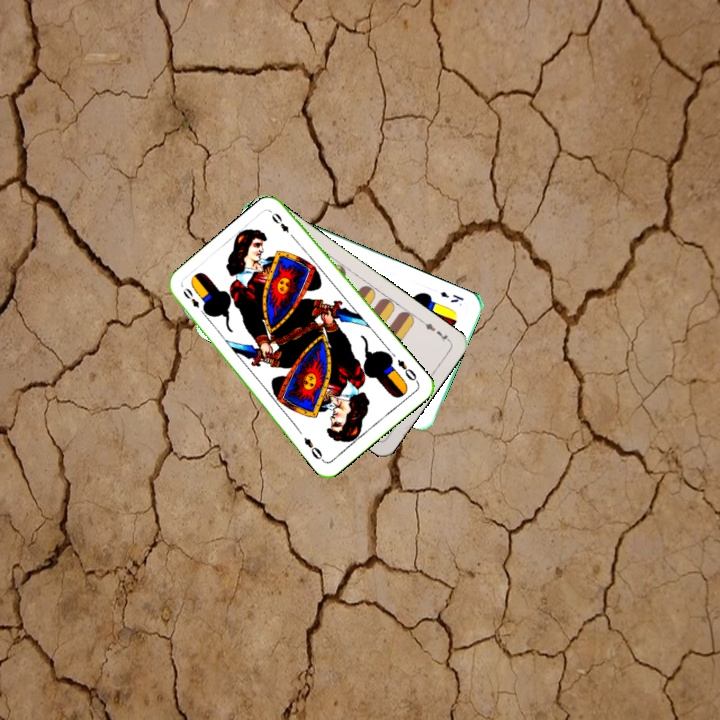E7: (417, 316, 453, 344)
EK: (436, 287, 466, 305)
EO: (179, 284, 209, 318), (393, 355, 421, 385)
